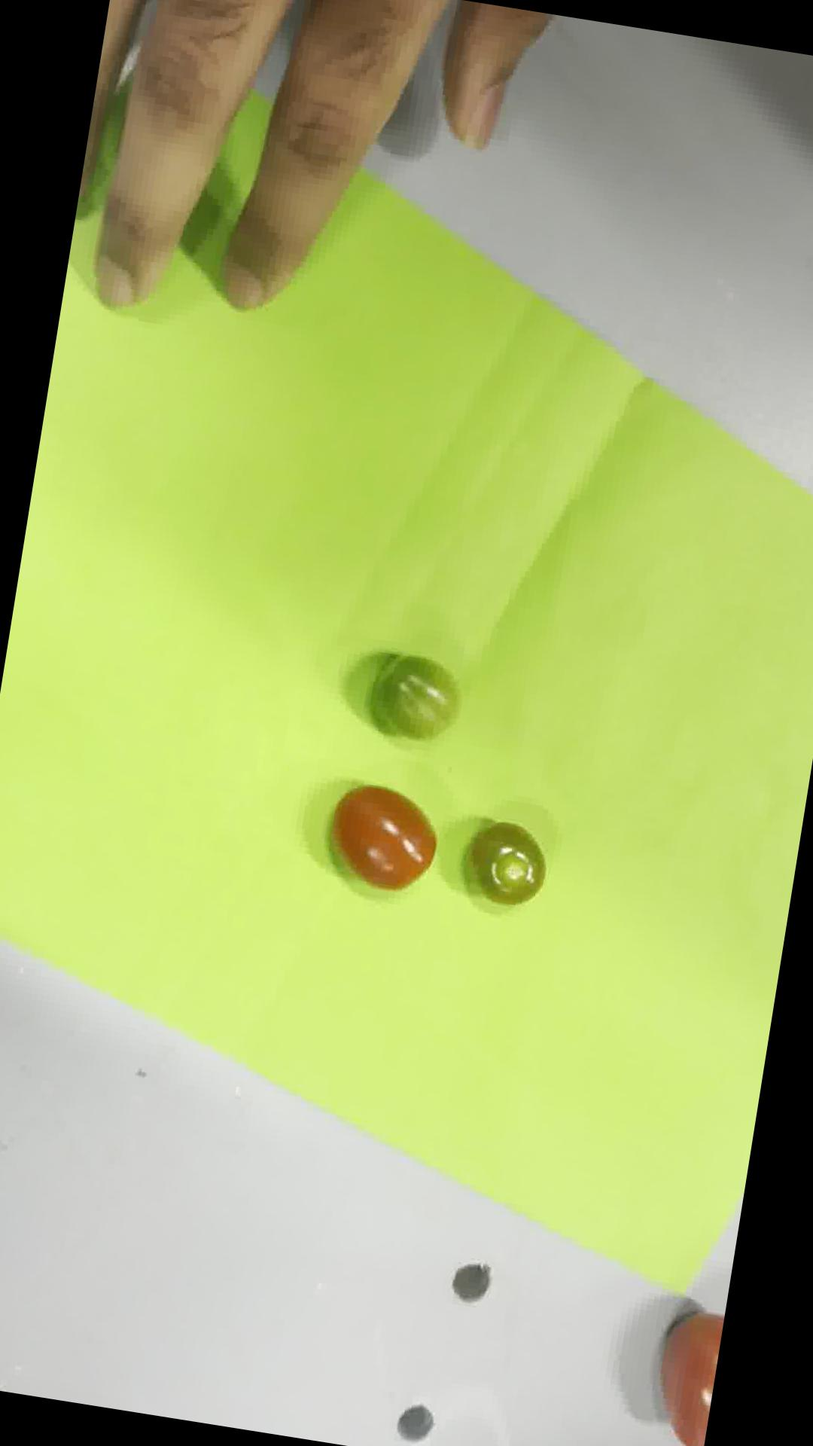green_cherry_tomato: (369, 654, 461, 739)
red_cherry_tomato: (332, 785, 436, 890)
yellow_cherry_tomato: (465, 821, 545, 906)
